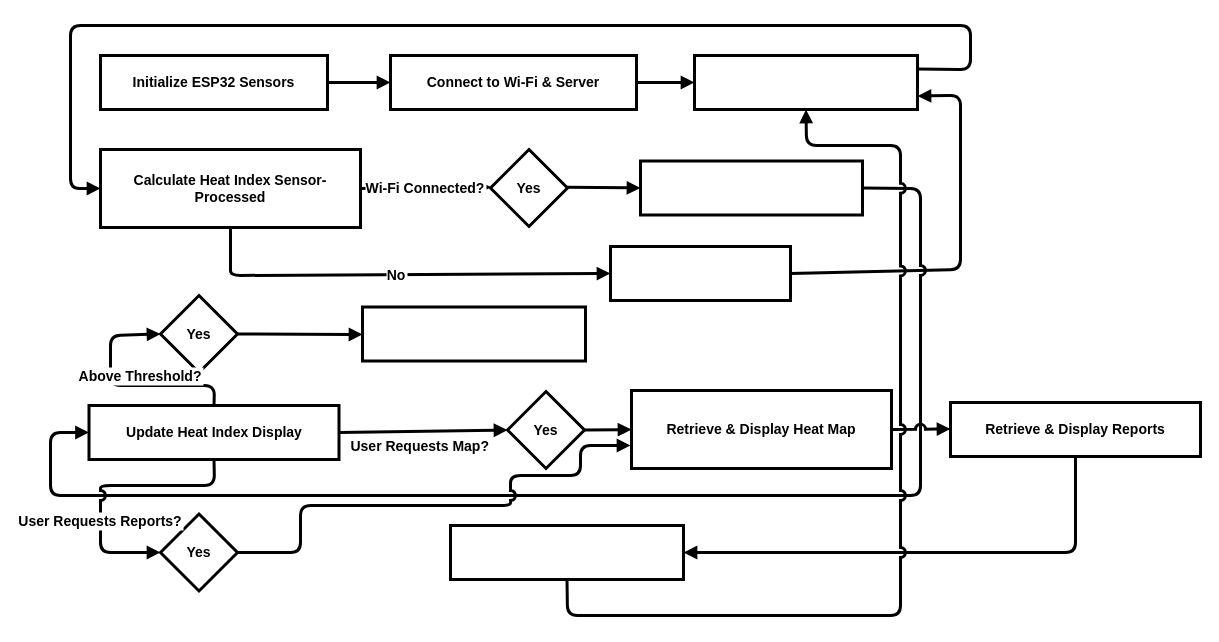
Some shapes in this 1219 by 642 pixel diagram are drawn without their labels. Each missing label, with the centre of its shape:
Display 24-Hour Alert: pixel 473 333
Read Temp & Humidity: pixel 805 82
Retry After 5 sec: pixel 700 273
Send Data to Database: pixel 751 187
Wait for Next Data Read: pixel 566 552
